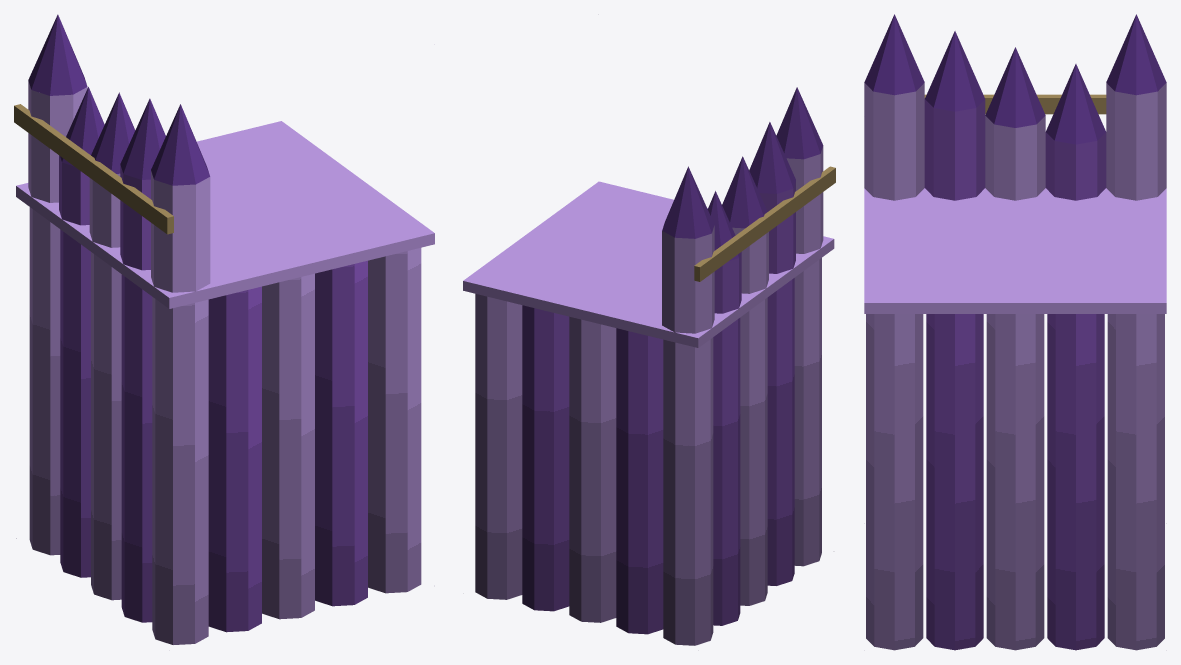
File: perimeter_wall_crystal_f7.glb
3 views of the same model, side by side, from view 1: azimuth 30°, elevation 25°; view 2: azimuth 150°, elevation 25°; view 3: azimuth 270°, elevation 25° (orthographic). The views are drawn at different scales.
Bounding box in the file's own units: 2.01 × 3.9 × 2.
Materials: 1 (1 with a texture image).
